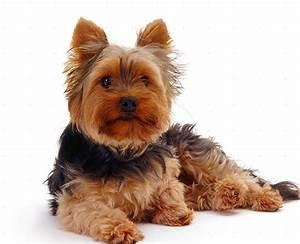dog: (43, 15, 299, 243)
